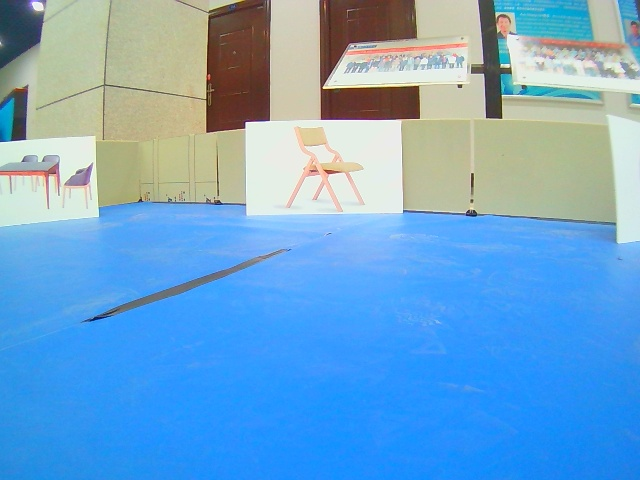table: (246, 119, 408, 220), (1, 135, 100, 228)
